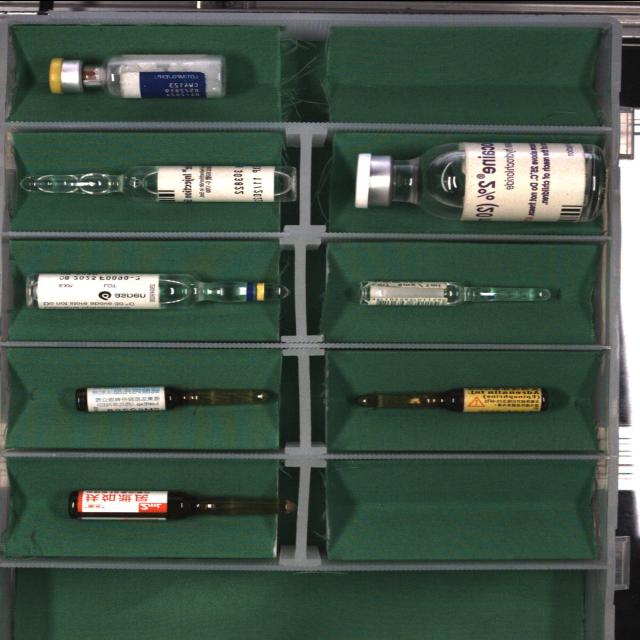Vials: (355, 141, 604, 221), (49, 54, 226, 97)
